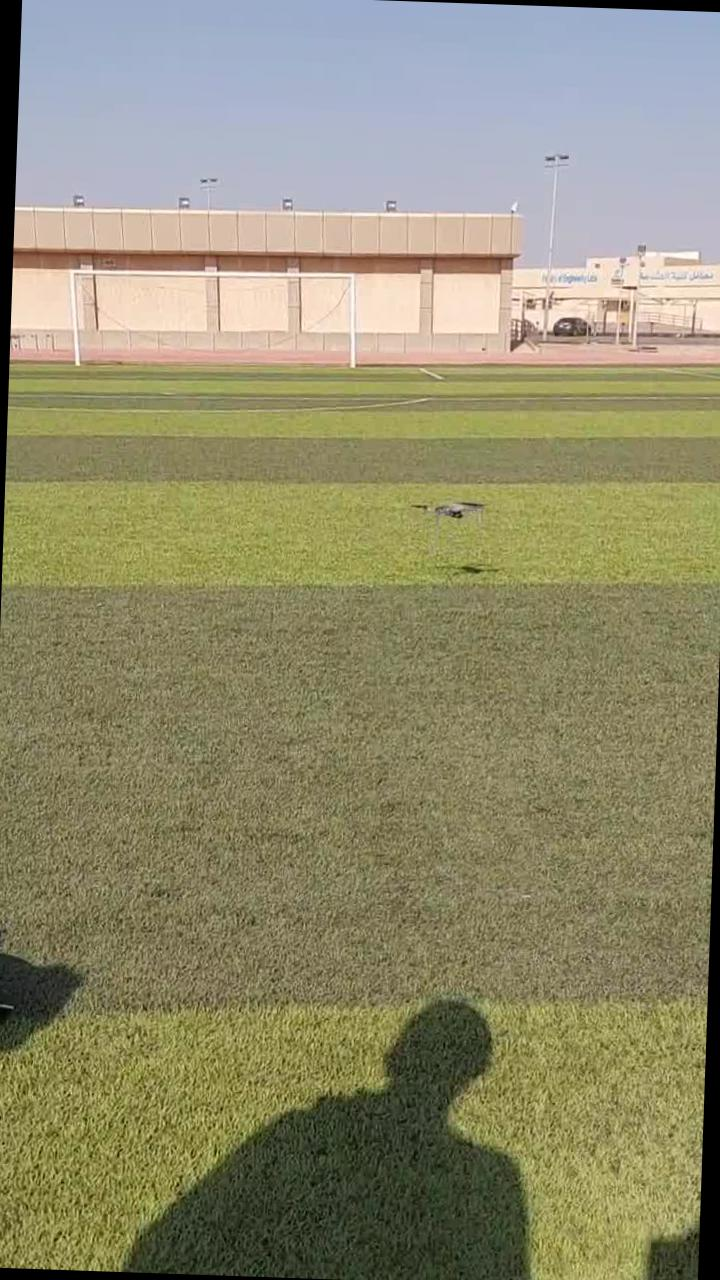drone: (387, 488, 490, 528)
